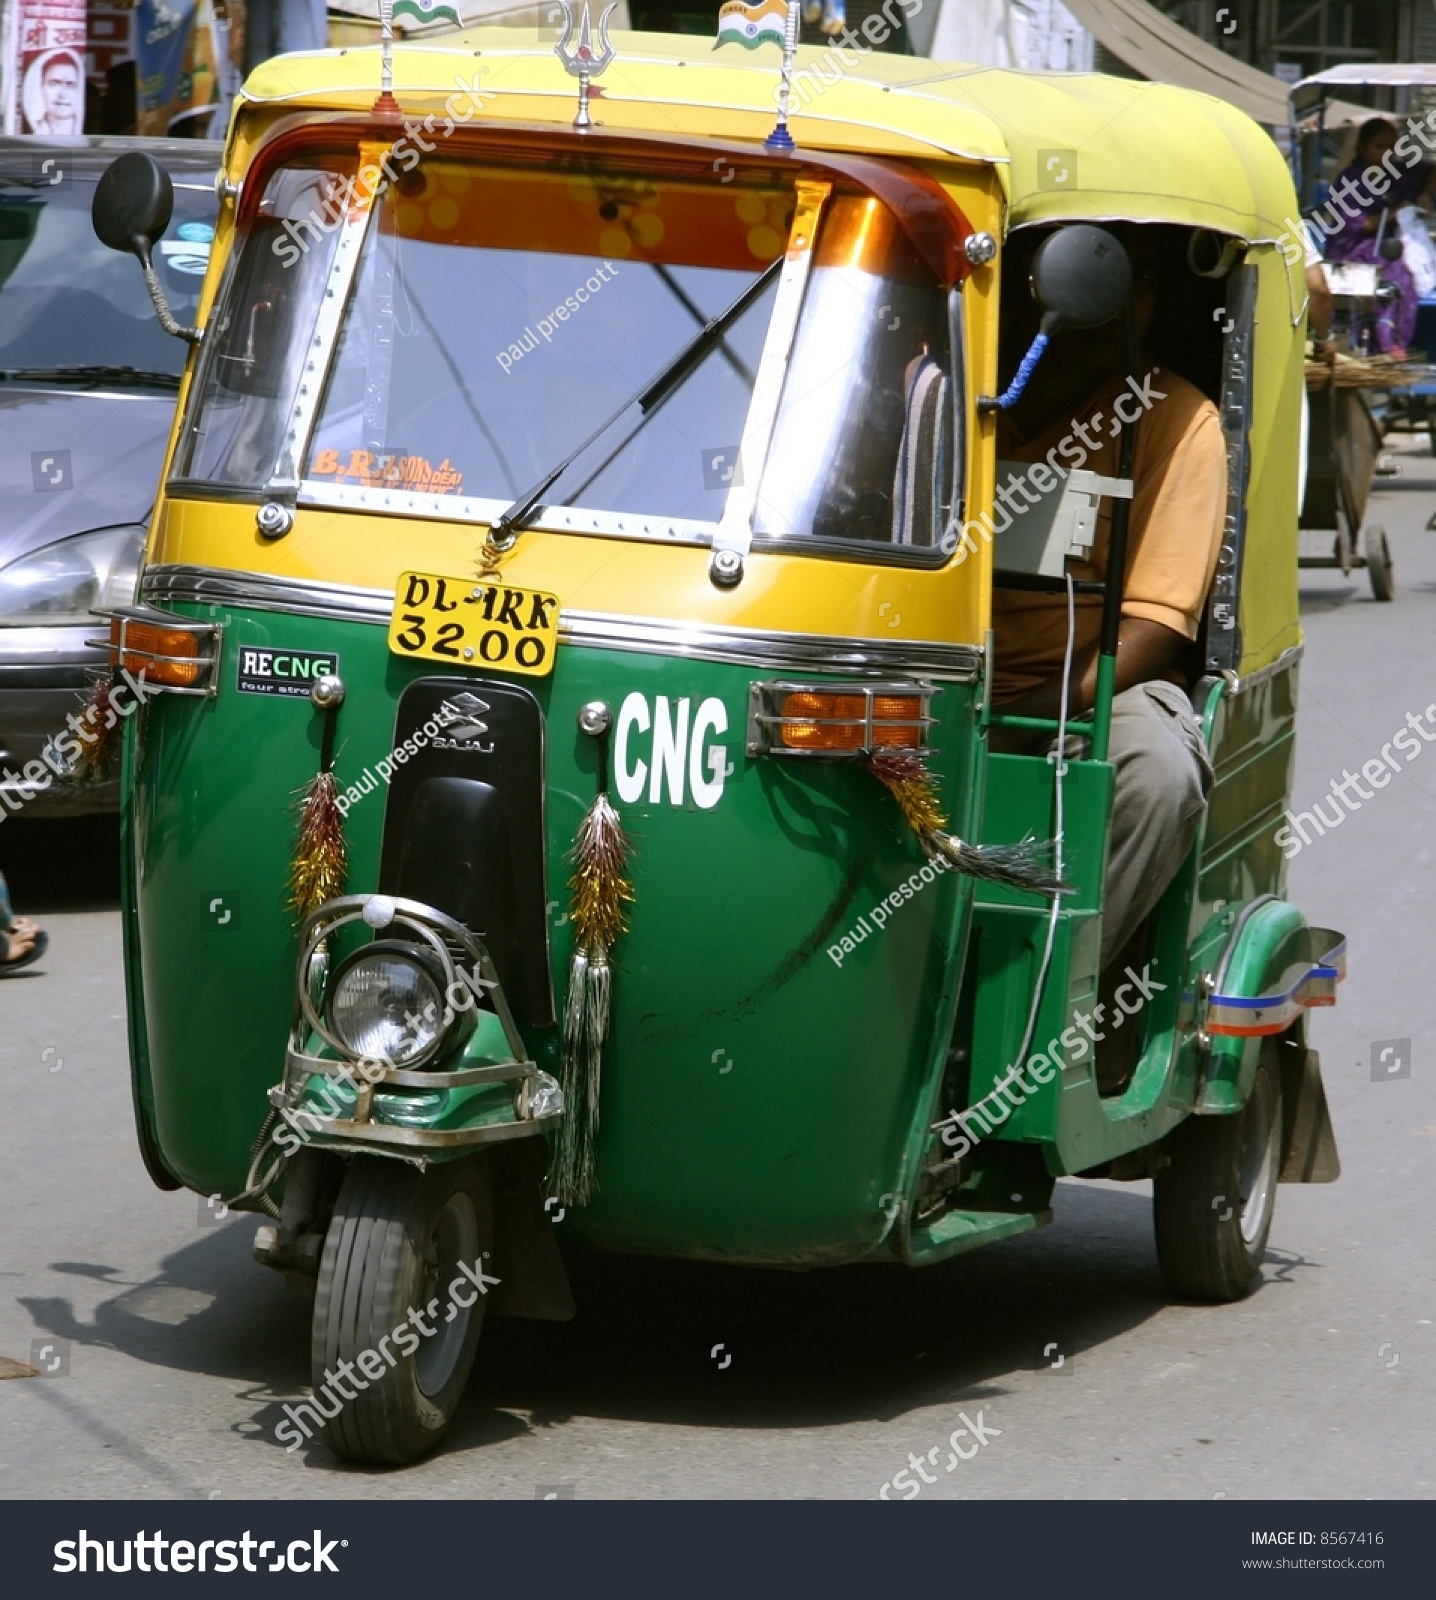doublelinenumberplate: (385, 565, 566, 682)
